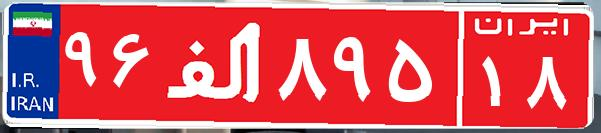1: (475, 38, 525, 113)
5: (385, 28, 445, 110)
6: (110, 28, 158, 105)
8: (273, 28, 330, 110), (525, 38, 570, 115)
9: (330, 28, 385, 110), (57, 26, 110, 107)
الف: (158, 15, 273, 115)
